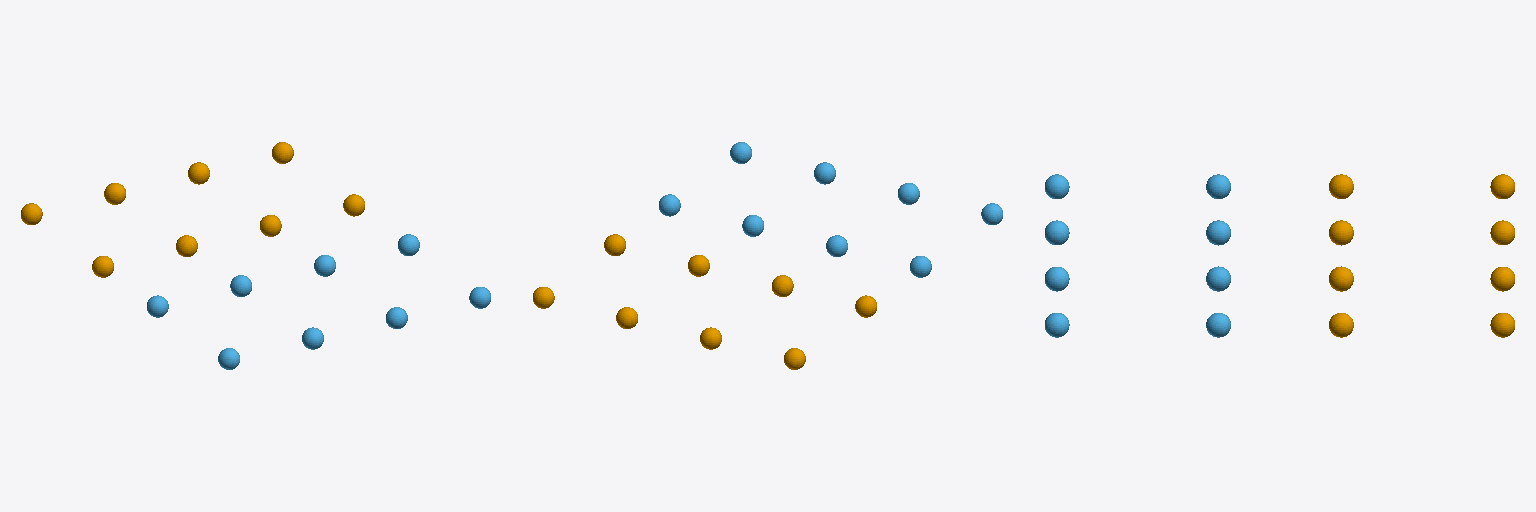
--- Render facts (derived) ---
The picture shows the robot from 3 angles, left to right: view 1: azimuth 30°, elevation 25°; view 2: azimuth 150°, elevation 25°; view 3: azimuth 270°, elevation 25°; orthographic projection.
Robot: atlas — 16 links, 15 joints (15 revolute); root link pelvis; default pose: every joint at zero.
Visible links, largest first — view 1: l_foot, r_foot; view 2: l_foot, r_foot; view 3: l_foot, r_foot.
Boxes of the visible links, <box> form: l_foot: <box>21,142,364,277</box>; r_foot: <box>147,234,490,369</box>; l_foot: <box>533,234,876,369</box>; r_foot: <box>659,142,1002,277</box>; l_foot: <box>1329,174,1514,337</box>; r_foot: <box>1045,174,1230,337</box>.
Size in the robot's own frame: 0.2804 by 0.375 by 0.02 metres.
0 mesh visuals loaded from 16 distinct referenced files (none loaded); not drawn: 16 (reference not matched to a file when rendering).

robot.urdf — atlas:
<?xml version="1.0"?>
<!-- =================================================================================== -->
<!-- |    This document was autogenerated by xacro from atlas_v5_minimal_contact.xacro | -->
<!-- |    EDITING THIS FILE BY HAND IS NOT RECOMMENDED                                 | -->
<!-- =================================================================================== -->
<robot xmlns:xacro="http://www.ros.org/wiki/xacro" name="atlas">
  <!--<link name="l_clav">-->
    <!--<inertial>-->
      <!--<mass value="4.466"/>-->
      <!--<origin rpy="0 0 0" xyz="0 0 -0.084"/>-->
      <!--<inertia ixx="0.011" ixy="0" ixz="0" iyy="0.009" iyz="0.004" izz="0.004"/>-->
    <!--</inertial>-->
    <!--<visual>-->
      <!--<geometry>-->
        <!--<mesh filename="package://Atlas/urdf/meshes/r_clav.obj"/>-->
      <!--</geometry>-->
    <!--</visual>-->
  <!--</link>-->
  <link name="l_foot">
    <inertial>
      <mass value="2.410"/>
      <origin rpy="0 0 0" xyz="0.027 0 -0.067"/>
      <inertia ixx="0.002" ixy="0" ixz="0" iyy="0.007" iyz="0" izz="0.008"/>
    </inertial>
    <visual>
      <geometry>
        <mesh filename="package://Atlas/urdf/meshes/l_foot.obj"/>
      </geometry>
    </visual>
    <collision group="heel">
      <origin rpy="0 0 0" xyz="-0.0876 0.066 -0.07645"/>
      <geometry>
        <sphere radius="0.0"/>
      </geometry>
    </collision>
    <visual group="heel">
      <origin rpy="0 0 0" xyz="-0.0876 0.066 -0.07645"/>
      <geometry>
        <sphere radius="0.01"/>
      </geometry>
    </visual>
    <collision group="heel">
      <origin rpy="0 0 0" xyz="-0.0876 -0.0626 -0.07645"/>
      <geometry>
        <sphere radius="0.0"/>
      </geometry>
    </collision>
    <visual group="heel">
      <origin rpy="0 0 0" xyz="-0.0876 -0.0626 -0.07645"/>
      <geometry>
        <sphere radius="0.01"/>
      </geometry>
    </visual>
    <collision group="toe">
      <origin rpy="0 0 0" xyz="0.1728 0.066 -0.07645"/>
      <geometry>
        <sphere radius="0.0"/>
      </geometry>
    </collision>
    <visual group="toe">
      <origin rpy="0 0 0" xyz="0.1728 0.066 -0.07645"/>
      <geometry>
        <sphere radius="0.01"/>
      </geometry>
    </visual>
    <collision group="toe">
      <origin rpy="0 0 0" xyz="0.1728 -0.0626 -0.07645"/>
      <geometry>
        <sphere radius="0.0"/>
      </geometry>
    </collision>
    <visual group="toe">
      <origin rpy="0 0 0" xyz="0.1728 -0.0626 -0.07645"/>
      <geometry>
        <sphere radius="0.01"/>
      </geometry>
    </visual>
    <collision group="midfoot_front">
      <origin rpy="0 0 0" xyz="0.086 0.066 -0.07645"/>
      <geometry>
        <sphere radius="0.0"/>
      </geometry>
    </collision>
    <visual group="midfoot_front">
      <origin rpy="0 0 0" xyz="0.086 0.066 -0.07645"/>
      <geometry>
        <sphere radius="0.01"/>
      </geometry>
    </visual>
    <collision group="midfoot_front">
      <origin rpy="0 0 0" xyz="0.086 -0.0626 -0.07645"/>
      <geometry>
        <sphere radius="0.0"/>
      </geometry>
    </collision>
    <visual group="midfoot_front">
      <origin rpy="0 0 0" xyz="0.086 -0.0626 -0.07645"/>
      <geometry>
        <sphere radius="0.01"/>
      </geometry>
    </visual>
    <collision group="midfoot_rear">
      <origin rpy="0 0 0" xyz="-0.0008 0.066 -0.07645"/>
      <geometry>
        <sphere radius="0.0"/>
      </geometry>
    </collision>
    <visual group="midfoot_rear">
      <origin rpy="0 0 0" xyz="-0.0008 0.066 -0.07645"/>
      <geometry>
        <sphere radius="0.01"/>
      </geometry>
    </visual>
    <collision group="midfoot_rear">
      <origin rpy="0 0 0" xyz="-0.0008 -0.0626 -0.07645"/>
      <geometry>
        <sphere radius="0.0"/>
      </geometry>
    </collision>
    <visual group="midfoot_rear">
      <origin rpy="0 0 0" xyz="-0.0008 -0.0626 -0.07645"/>
      <geometry>
        <sphere radius="0.01"/>
      </geometry>
    </visual>
  </link>
  <frame link="l_foot" name="l_foot_heel_l" xyz="-0.0876 0.066 -0.07645"/>
  <frame link="l_foot" name="l_foot_heel_r" xyz="-0.0876 -0.0626 -0.07645"/>
  <frame link="l_foot" name="l_foot_toe_l" xyz="0.1728 0.066 -0.07645"/>
  <frame link="l_foot" name="l_foot_toe_r" xyz="0.1728 -0.0626 -0.07645"/>
  <frame link="l_foot" name="l_foot_midfoot_front_l" xyz="0.086 0.066 -0.07645"/>
  <frame link="l_foot" name="l_foot_midfoot_front_r" xyz="0.086 -0.0626 -0.07645"/>
  <frame link="l_foot" name="l_foot_midfoot_rear_l" xyz="-0.0008 0.066 -0.07645"/>
  <frame link="l_foot" name="l_foot_midfoot_rear_r" xyz="-0.0008 -0.0626 -0.07645"/>

  <!--<link name="l_hand">-->
    <!--<inertial>-->
      <!--<mass value="0.5839"/>-->
      <!--<origin rpy="0 0 0" xyz="0.00016 -0.08159 0.00002"/>-->
      <!--<inertia ixx="0.000388" ixy="0" ixz="0" iyy="0.000477" iyz="0" izz="0.000379"/>-->
    <!--</inertial>-->
  <!--</link>-->
  <!--<frame link="l_hand" name="l_hand_mount" rpy="0 -1.5707963267948966 3.1415926535897" xyz="0 -0.195 0"/>-->
  <!--<link name="l_larm">-->
    <!--<inertial>-->
      <!--<mass value="3.248"/>-->
      <!--<origin rpy="0 0 0" xyz="0 0 0"/>-->
      <!--<inertia ixx="0.00265" ixy="0" ixz="0" iyy="0.00446" iyz="0" izz="0.00446"/>-->
    <!--</inertial>-->
    <!--<visual>-->
      <!--<geometry>-->
        <!--<mesh filename="package://Atlas/urdf/meshes/r_larm.obj"/>-->
      <!--</geometry>-->
    <!--</visual>-->
  <!--</link>-->
  <!--<link name="l_lfarm">-->
    <!--<inertial>-->
      <!--<mass value="0.648"/>-->
      <!--<origin rpy="0 0 0" xyz="0.00017 -0.02515 0.00163"/>-->
      <!--<inertia ixx="0.000764" ixy="0" ixz="0" iyy="0.000429" iyz="0" izz="0.000825"/>-->
    <!--</inertial>-->
    <!--<visual>-->
      <!--<geometry>-->
        <!--<mesh filename="package://Atlas/urdf/meshes/r_hand.obj"/>-->
      <!--</geometry>-->
    <!--</visual>-->
  <!--</link>-->
  <link name="l_lglut">
    <inertial>
      <mass value="0.898"/>
      <origin rpy="0 0 0" xyz="0.0133341 0.0170484 -0.0312052"/>
      <inertia ixx="0.000691326" ixy="-2.24344e-05" ixz="2.50508e-06" iyy="0.00126856" iyz="0.000137862" izz="0.00106487"/>
    </inertial>
    <visual>
      <geometry>
        <mesh filename="package://Atlas/urdf/meshes/l_lglut.obj"/>
      </geometry>
    </visual>
  </link>
  <link name="l_lleg">
    <inertial>
      <mass value="4.515"/>
      <origin rpy="0 0 0" xyz="0.001 0 -0.187"/>
      <inertia ixx="0.077" ixy="0" ixz="-0.003" iyy="0.076" iyz="0" izz="0.01"/>
    </inertial>
    <visual>
      <geometry>
        <mesh filename="package://Atlas/urdf/meshes/l_lleg.obj"/>
      </geometry>
    </visual>
  </link>
  <!--<link name="l_scap">-->
    <!--<inertial>-->
      <!--<mass value="3.899"/>-->
      <!--<origin rpy="0 0 0" xyz="0 0 0"/>-->
      <!--<inertia ixx="0.00319" ixy="0" ixz="0" iyy="0.00583" iyz="0" izz="0.00583"/>-->
    <!--</inertial>-->
    <!--<visual>-->
      <!--<geometry>-->
        <!--<mesh filename="package://Atlas/urdf/meshes/r_scap.obj"/>-->
      <!--</geometry>-->
    <!--</visual>-->
  <!--</link>-->
  <link name="l_talus">
    <inertial>
      <mass value="0.125"/>
      <origin rpy="0 0 0" xyz="0 0 0"/>
      <inertia ixx="1.01674e-05" ixy="0" ixz="0" iyy="8.42775e-06" iyz="0" izz="1.30101e-05"/>
    </inertial>
    <visual>
      <geometry>
        <mesh filename="package://Atlas/urdf/meshes/l_talus.obj"/>
      </geometry>
    </visual>
  </link>
  <!--<link name="l_uarm">-->
    <!--<inertial>-->
      <!--<mass value="4.386"/>-->
      <!--<origin rpy="0 0 0" xyz="0 0.065 0"/>-->
      <!--<inertia ixx="0.00656" ixy="0" ixz="0" iyy="0.00358" iyz="0" izz="0.00656"/>-->
    <!--</inertial>-->
    <!--<visual>-->
      <!--<geometry>-->
        <!--<mesh filename="package://Atlas/urdf/meshes/r_uarm.obj"/>-->
      <!--</geometry>-->
    <!--</visual>-->
  <!--</link>-->
  <!--<link name="l_ufarm">-->
    <!--<inertial>-->
      <!--<mass value="2.4798"/>-->
      <!--<origin rpy="0 0 0" xyz="0.00015 0.08296 0.00037"/>-->
      <!--<inertia ixx="0.012731" ixy="0" ixz="0" iyy="0.002857" iyz="0" izz="0.011948"/>-->
    <!--</inertial>-->
    <!--<visual>-->
      <!--<geometry>-->
        <!--<mesh filename="package://Atlas/urdf/meshes/r_farm.obj"/>-->
      <!--</geometry>-->
    <!--</visual>-->
  <!--</link>-->
  <link name="l_uglut">
    <inertial>
      <mass value="1.959"/>
      <origin rpy="0 0 0" xyz="0.00529262 -0.00344732 0.00313046"/>
      <inertia ixx="0.00074276" ixy="-3.79607e-08" ixz="-2.79549e-05" iyy="0.000688179" iyz="-3.2735e-08" izz="0.00041242"/>
    </inertial>
    <visual>
      <geometry>
        <mesh filename="package://Atlas/urdf/meshes/l_uglut.obj"/>
      </geometry>
    </visual>
  </link>
  <link name="l_uleg">
    <inertial>
      <mass value="8.204"/>
      <origin rpy="0 0 0" xyz="0 0 -0.21"/>
      <inertia ixx="0.09" ixy="0" ixz="0" iyy="0.09" iyz="0" izz="0.02"/>
    </inertial>
    <visual>
      <geometry>
        <mesh filename="package://Atlas/urdf/meshes/l_uleg.obj"/>
      </geometry>
    </visual>
    <!-- to cover the logo shield -->
    <!-- inside strut -->
    <!-- outside strut -->
  </link>
  <link name="ltorso">
    <inertial>
      <mass value="2.270"/>
      <origin rpy="0 0 0" xyz="-0.0112984 -3.15366e-06 0.0746835"/>
      <inertia ixx="0.0039092" ixy="-5.04491e-08" ixz="-0.000342157" iyy="0.00341694" iyz="4.87119e-07" izz="0.00174492"/>
    </inertial>
    <visual>
      <geometry>
        <mesh filename="package://Atlas/urdf/meshes/ltorso.obj"/>
      </geometry>
    </visual>
  </link>
  <link name="mtorso">
    <inertial>
      <mass value="0.799"/>
      <origin rpy="0 0 0" xyz="-0.00816266 -0.0131245 0.0305974"/>
      <inertia ixx="0.000454181" ixy="-6.10764e-05" ixz="3.94009e-05" iyy="0.000483282" iyz="5.27463e-05" izz="0.000444215"/>
    </inertial>
    <visual>
      <geometry>
        <mesh filename="package://Atlas/urdf/meshes/mtorso.obj"/>
      </geometry>
    </visual>
  </link>
  <link name="pelvis">
    <inertial>
      <mass value="9.509"/>
      <origin rpy="0 0 0" xyz="0.0111 0 0.0271"/>
      <inertia ixx="0.1244" ixy="0.0008" ixz="-0.0007" iyy="0.0958" iyz="-0.0005" izz="0.1167"/>
    </inertial>
    <visual>
      <geometry>
        <mesh filename="package://Atlas/urdf/meshes/pelvis.obj"/>
      </geometry>
    </visual>
  </link>
  <!--<link name="r_clav">-->
    <!--<inertial>-->
      <!--<mass value="4.466"/>-->
      <!--<origin rpy="0 0 0" xyz="0 0 -0.084"/>-->
      <!--<inertia ixx="0.011" ixy="0" ixz="0" iyy="0.009" iyz="0.004" izz="0.004"/>-->
    <!--</inertial>-->
    <!--<visual>-->
      <!--<geometry>-->
        <!--<mesh filename="package://Atlas/urdf/meshes/r_clav.obj"/>-->
      <!--</geometry>-->
    <!--</visual>-->
  <!--</link>-->
  <link name="r_foot">
    <inertial>
      <mass value="2.41"/>
      <origin rpy="0 0 0" xyz="0.027 0 -0.067"/>
      <inertia ixx="0.002" ixy="0" ixz="0" iyy="0.007" iyz="0" izz="0.008"/>
    </inertial>
    <visual>
      <geometry>
        <mesh filename="package://Atlas/urdf/meshes/r_foot.obj"/>
      </geometry>
    </visual>
    <collision group="heel">
      <origin rpy="0 0 0" xyz="-0.0876 0.0626 -0.07645"/>
      <geometry>
        <sphere radius="0.0"/>
      </geometry>
    </collision>
    <visual group="heel">
      <origin rpy="0 0 0" xyz="-0.0876 0.0626 -0.07645"/>
      <geometry>
        <sphere radius="0.01"/>
      </geometry>
    </visual>
    <collision group="heel">
      <origin rpy="0 0 0" xyz="-0.0876 -0.066 -0.07645"/>
      <geometry>
        <sphere radius="0.0"/>
      </geometry>
    </collision>
    <visual group="heel">
      <origin rpy="0 0 0" xyz="-0.0876 -0.066 -0.07645"/>
      <geometry>
        <sphere radius="0.01"/>
      </geometry>
    </visual>
    <collision group="toe">
      <origin rpy="0 0 0" xyz="0.1728 0.0626 -0.07645"/>
      <geometry>
        <sphere radius="0.0"/>
      </geometry>
    </collision>
    <visual group="toe">
      <origin rpy="0 0 0" xyz="0.1728 0.0626 -0.07645"/>
      <geometry>
        <sphere radius="0.01"/>
      </geometry>
    </visual>
    <collision group="toe">
      <origin rpy="0 0 0" xyz="0.1728 -0.066 -0.07645"/>
      <geometry>
        <sphere radius="0.0"/>
      </geometry>
    </collision>
    <visual group="toe">
      <origin rpy="0 0 0" xyz="0.1728 -0.066 -0.07645"/>
      <geometry>
        <sphere radius="0.01"/>
      </geometry>
    </visual>
    <collision group="midfoot_front">
      <origin rpy="0 0 0" xyz="0.086 0.0626 -0.07645"/>
      <geometry>
        <sphere radius="0.0"/>
      </geometry>
    </collision>
    <visual group="midfoot_front">
      <origin rpy="0 0 0" xyz="0.086 0.0626 -0.07645"/>
      <geometry>
        <sphere radius="0.01"/>
      </geometry>
    </visual>
    <collision group="midfoot_front">
      <origin rpy="0 0 0" xyz="0.086 -0.066 -0.07645"/>
      <geometry>
        <sphere radius="0.0"/>
      </geometry>
    </collision>
    <visual group="midfoot_front">
      <origin rpy="0 0 0" xyz="0.086 -0.066 -0.07645"/>
      <geometry>
        <sphere radius="0.01"/>
      </geometry>
    </visual>
    <collision group="midfoot_rear">
      <origin rpy="0 0 0" xyz="-0.0008 0.0626 -0.07645"/>
      <geometry>
        <sphere radius="0.0"/>
      </geometry>
    </collision>
    <visual group="midfoot_rear">
      <origin rpy="0 0 0" xyz="-0.0008 0.0626 -0.07645"/>
      <geometry>
        <sphere radius="0.01"/>
      </geometry>
    </visual>
    <collision group="midfoot_rear">
      <origin rpy="0 0 0" xyz="-0.0008 -0.066 -0.07645"/>
      <geometry>
        <sphere radius="0.0"/>
      </geometry>
    </collision>
    <visual group="midfoot_rear">
      <origin rpy="0 0 0" xyz="-0.0008 -0.066 -0.07645"/>
      <geometry>
        <sphere radius="0.01"/>
      </geometry>
    </visual>
  </link>
  <frame link="r_foot" name="r_foot_heel_l" xyz="-0.0876 0.0626 -0.07645"/>
  <frame link="r_foot" name="r_foot_heel_r" xyz="-0.0876 -0.066 -0.07645"/>
  <frame link="r_foot" name="r_foot_toe_l" xyz="0.1728 0.0626 -0.07645"/>
  <frame link="r_foot" name="r_foot_toe_r" xyz="0.1728 -0.066 -0.07645"/>
  <frame link="r_foot" name="r_foot_midfoot_front_l" xyz="0.086 0.0626 -0.07645"/>
  <frame link="r_foot" name="r_foot_midfoot_front_r" xyz="0.086 -0.066 -0.07645"/>
  <frame link="r_foot" name="r_foot_midfoot_rear_l" xyz="-0.0008 0.0626 -0.07645"/>
  <frame link="r_foot" name="r_foot_midfoot_rear_r" xyz="-0.0008 -0.066 -0.07645"/>
  <!--<link name="r_hand">-->
    <!--<inertial>-->
      <!--<mass value="0.5839"/>-->
      <!--<origin rpy="0 0 0" xyz="0.00016 -0.08159 0.00002"/>-->
      <!--<inertia ixx="0.000388" ixy="0" ixz="0" iyy="0.000477" iyz="0" izz="0.000379"/>-->
    <!--</inertial>-->
  <!--</link>-->
  <!--<frame link="r_hand" name="r_hand_mount" rpy="0 -1.5707963267948966 3.1415926535897" xyz="0 -0.195 0"/>-->
  <!--<link name="r_larm">-->
    <!--<inertial>-->
      <!--<mass value="3.248"/>-->
      <!--<origin rpy="0 0 0" xyz="0 0 0"/>-->
      <!--<inertia ixx="0.00265" ixy="0" ixz="0" iyy="0.00446" iyz="0" izz="0.00446"/>-->
    <!--</inertial>-->
    <!--<visual>-->
      <!--<geometry>-->
        <!--<mesh filename="package://Atlas/urdf/meshes/r_larm.obj"/>-->
      <!--</geometry>-->
    <!--</visual>-->
  <!--</link>-->
  <!--<link name="r_lfarm">-->
    <!--<inertial>-->
      <!--<mass value="0.648"/>-->
      <!--<origin rpy="0 0 0" xyz="0.00017 -0.02515 0.00163"/>-->
      <!--<inertia ixx="0.000764" ixy="0" ixz="0" iyy="0.000429" iyz="0" izz="0.000825"/>-->
    <!--</inertial>-->
    <!--<visual>-->
      <!--<geometry>-->
        <!--<mesh filename="package://Atlas/urdf/meshes/r_hand.obj"/>-->
      <!--</geometry>-->
    <!--</visual>-->
  <!--</link>-->
  <link name="r_lglut">
    <inertial>
      <mass value="0.898"/>
      <origin rpy="0 0 0" xyz="0.0133341 -0.0170484 -0.0312052"/>
      <inertia ixx="0.000691326" ixy="2.24344e-05" ixz="2.50508e-06" iyy="0.00126856" iyz="-0.000137862" izz="0.00106487"/>
    </inertial>
    <visual>
      <geometry>
        <mesh filename="package://Atlas/urdf/meshes/r_lglut.obj"/>
      </geometry>
    </visual>
  </link>
  <link name="r_lleg">
    <inertial>
      <mass value="4.515"/>
      <origin rpy="0 0 0" xyz="0.001 0 -0.187"/>
      <inertia ixx="0.077" ixy="-0" ixz="-0.003" iyy="0.076" iyz="-0" izz="0.01"/>
    </inertial>
    <visual>
      <geometry>
        <mesh filename="package://Atlas/urdf/meshes/r_lleg.obj"/>
      </geometry>
    </visual>
  </link>
  <!--<link name="r_scap">-->
    <!--<inertial>-->
      <!--<mass value="3.899"/>-->
      <!--<origin rpy="0 0 0" xyz="0 0 0"/>-->
      <!--<inertia ixx="0.00319" ixy="0" ixz="0" iyy="0.00583" iyz="0" izz="0.00583"/>-->
    <!--</inertial>-->
    <!--<visual>-->
      <!--<geometry>-->
        <!--<mesh filename="package://Atlas/urdf/meshes/r_scap.obj"/>-->
      <!--</geometry>-->
    <!--</visual>-->
  <!--</link>-->
  <link name="r_talus">
    <inertial>
      <mass value="0.125"/>
      <origin rpy="0 0 0" xyz="0 0 0"/>
      <inertia ixx="1.01674e-05" ixy="0" ixz="0" iyy="8.42775e-06" iyz="0" izz="1.30101e-05"/>
    </inertial>
    <visual>
      <geometry>
        <mesh filename="package://Atlas/urdf/meshes/r_talus.obj"/>
      </geometry>
    </visual>
  </link>
  <!--<link name="r_uarm">-->
    <!--<inertial>-->
      <!--<mass value="4.386"/>-->
      <!--<origin rpy="0 0 0" xyz="0 0.065 0"/>-->
      <!--<inertia ixx="0.00656" ixy="0" ixz="0" iyy="0.00358" iyz="0" izz="0.00656"/>-->
    <!--</inertial>-->
    <!--<visual>-->
      <!--<geometry>-->
        <!--<mesh filename="package://Atlas/urdf/meshes/r_uarm.obj"/>-->
      <!--</geometry>-->
    <!--</visual>-->
  <!--</link>-->
  <!--<link name="r_ufarm">-->
    <!--<inertial>-->
      <!--<mass value="2.4798"/>-->
      <!--<origin rpy="0 0 0" xyz="0.00015 0.08296 0.00037"/>-->
      <!--<inertia ixx="0.012731" ixy="0" ixz="0" iyy="0.002857" iyz="0" izz="0.011948"/>-->
    <!--</inertial>-->
    <!--<visual>-->
      <!--<geometry>-->
        <!--<mesh filename="package://Atlas/urdf/meshes/r_farm.obj"/>-->
      <!--</geometry>-->
    <!--</visual>-->
  <!--</link>-->
  <link name="r_uglut">
    <inertial>
      <mass value="1.959"/>
      <origin rpy="0 0 0" xyz="0.00529262 0.00344732 0.00313046"/>
      <inertia ixx="0.00074276" ixy="3.79607e-08" ixz="-2.79549e-05" iyy="0.000688179" iyz="3.2735e-08" izz="0.00041242"/>
    </inertial>
    <visual>
      <geometry>
        <mesh filename="package://Atlas/urdf/meshes/r_uglut.obj"/>
      </geometry>
    </visual>
  </link>
  <link name="r_uleg">
    <inertial>
      <mass value="8.204"/>
      <origin rpy="0 0 0" xyz="0 0 -0.21"/>
      <inertia ixx="0.09" ixy="0" ixz="0" iyy="0.09" iyz="0" izz="0.02"/>
    </inertial>
    <visual>
      <geometry>
        <mesh filename="package://Atlas/urdf/meshes/r_uleg.obj"/>
      </geometry>
    </visual>
    <!-- to cover the logo shield -->
    <!-- inside strut -->
    <!-- outside strut -->
  </link>
  <link name="utorso">
    <inertial>
      <mass value="84.409"/>
      <origin rpy="0 0 0" xyz="-0.0622 0.0023 0.3157"/>
      <inertia ixx="1.577" ixy="-0.032" ixz="0.102" iyy="1.602" iyz="0.047" izz="0.565"/>
    </inertial>
    <visual>
      <geometry>
        <mesh filename="package://Atlas/urdf/meshes/utorso.obj"/>
      </geometry>
    </visual>
  </link>
  <joint name="back_bkx" type="revolute">
    <origin rpy="0 0 0" xyz="0 0 0.05"/>
    <axis xyz="1 0 0"/>
    <parent link="mtorso"/>
    <child link="utorso"/>
    <dynamics damping="0.1" friction="0"/>
    <limit effort="300" lower="-0.523599" upper="0.523599" velocity="1"/>
    <safety_controller k_position="100" k_velocity="100" soft_lower_limit="-10.5236" soft_upper_limit="10.5236"/>
  </joint>
  <joint name="back_bky" type="revolute">
    <origin rpy="0 0 0" xyz="0 0 0.162"/>
    <axis xyz="0 1 0"/>
    <parent link="ltorso"/>
    <child link="mtorso"/>
    <dynamics damping="0.1" friction="0"/>
    <limit effort="445" lower="-0.219388" upper="0.538783" velocity="12"/>
    <safety_controller k_position="100" k_velocity="100" soft_lower_limit="-10.2194" soft_upper_limit="10.5388"/>
  </joint>
  <joint name="back_bkz" type="revolute">
    <origin rpy="0 0 0" xyz="-0.0125 0 0"/>
    <axis xyz="0 0 1"/>
    <parent link="pelvis"/>
    <child link="ltorso"/>
    <dynamics damping="0.1" friction="0"/>
    <limit effort="106" lower="-0.663225" upper="0.663225" velocity="1"/>
    <safety_controller k_position="100" k_velocity="100" soft_lower_limit="-10.6632" soft_upper_limit="10.6632"/>
  </joint>
  <!--<joint name="l_arm_elx" type="revolute">-->
    <!--<origin rpy="0 0 0" xyz="0 -0.119 0.0092"/>-->
    <!--<axis xyz="-1.0 -0.0 -0.0"/>-->
    <!--<parent link="l_uarm"/>-->
    <!--<child link="l_larm"/>-->
    <!--<dynamics damping="0.1" friction="0"/>-->
    <!--<limit effort="112" lower="0" upper="2.35619" velocity="12"/>-->
    <!--<safety_controller k_position="100" k_velocity="100" soft_lower_limit="-10" soft_upper_limit="12.3562"/>-->
  <!--</joint>-->
  <!--<joint name="l_arm_ely" type="revolute">-->
    <!--<origin rpy="0 0 0" xyz="0 -0.187 -0.016"/>-->
    <!--<axis xyz="-0.0 -1.0 -0.0"/>-->
    <!--<parent link="l_scap"/>-->
    <!--<child link="l_uarm"/>-->
    <!--<dynamics damping="0.1" friction="0"/>-->
    <!--<limit effort="63" lower="0" upper="3.14159" velocity="12"/>-->
    <!--<safety_controller k_position="100" k_velocity="100" soft_lower_limit="-10" soft_upper_limit="13.1416"/>-->
  <!--</joint>-->
  <!--<joint name="l_arm_shx" type="revolute">-->
    <!--<origin rpy="0 0 0" xyz="0 -0.11 -0.245"/>-->
    <!--<axis xyz="-1.0 -0.0 -0.0"/>-->
    <!--<parent link="l_clav"/>-->
    <!--<child link="l_scap"/>-->
    <!--<dynamics damping="0.1" friction="0"/>-->
    <!--<limit effort="99" lower="-1.5708" upper="1.5708" velocity="12"/>-->
    <!--<safety_controller k_position="100" k_velocity="100" soft_lower_limit="-11.5708" soft_upper_limit="11.5708"/>-->
  <!--</joint>-->
  <!--<joint name="l_arm_shz" type="revolute">-->
    <!--<origin rpy="0 0 3.14159265359" xyz="0.1406 0.2256 0.4776"/>-->
    <!--<axis xyz="0 0 1"/>-->
    <!--<parent link="utorso"/>-->
    <!--<child link="l_clav"/>-->
    <!--<dynamics damping="0.1" friction="0"/>-->
    <!--<limit effort="87" lower="-1.5708" upper="0.785398" velocity="12"/>-->
    <!--<safety_controller k_position="100" k_velocity="100" soft_lower_limit="-11.5708" soft_upper_limit="10.7854"/>-->
  <!--</joint>-->
  <!--<joint name="l_arm_mwx" type="revolute">-->
    <!--<origin rpy="0 0 0" xyz="0 0 0"/>-->
    <!--<axis xyz="1 0 0"/>-->
    <!--<parent link="l_ufarm"/>-->
    <!--<child link="l_lfarm"/>-->
    <!--<dynamics damping="0.1" friction="0"/>-->
    <!--<limit effort="25" lower="-1.7628" upper="1.7628" velocity="10"/>-->
    <!--<safety_controller k_position="100" k_velocity="100" soft_lower_limit="-11.7628" soft_upper_limit="11.7628"/>-->
  <!--</joint>-->
  <!--<joint name="l_arm_uwy" type="revolute">-->
    <!--<origin rpy="0 3.14159265359 0" xyz="0 -0.29955 -0.00921"/>-->
    <!--<axis xyz="-0.0 -1.0 -0.0"/>-->
    <!--<parent link="l_larm"/>-->
    <!--<child link="l_ufarm"/>-->
    <!--<dynamics damping="0.1" friction="0"/>-->
    <!--<limit effort="25" lower="-3.011" upper="3.011" velocity="10"/>-->
    <!--<safety_controller k_position="100" k_velocity="100" soft_lower_limit="-13.011" soft_upper_limit="13.011"/>-->
  <!--</joint>-->
  <!--<joint name="l_arm_lwy" type="revolute">-->
    <!--<origin rpy="0 3.14159265359 0" xyz="0 0 0"/>-->
    <!--<axis xyz="-0.0 -1.0 -0.0"/>-->
    <!--<parent link="l_lfarm"/>-->
    <!--<child link="l_hand"/>-->
    <!--<dynamics damping="0.1" friction="0"/>-->
    <!--<limit effort="25" lower="-2.9671" upper="2.9671" velocity="10"/>-->
    <!--<safety_controller k_position="100" k_velocity="100" soft_lower_limit="-12.9671" soft_upper_limit="12.9671"/>-->
  <!--</joint>-->
  <joint name="l_leg_akx" type="revolute">
    <origin rpy="0 0 0" xyz="0 0 0"/>
    <axis xyz="1 0 0"/>
    <parent link="l_talus"/>
    <child link="l_foot"/>
    <dynamics damping="0.1" friction="0"/>
    <limit effort="360" lower="-0.8" upper="0.8" velocity="12"/>
    <safety_controller k_position="100" k_velocity="100" soft_lower_limit="-10.8" soft_upper_limit="10.8"/>
  </joint>
  <joint name="l_leg_aky" type="revolute">
    <origin rpy="0 0 0" xyz="0 0 -0.422"/>
    <axis xyz="0 1 0"/>
    <parent link="l_lleg"/>
    <child link="l_talus"/>
    <dynamics damping="0.1" friction="0"/>
    <limit effort="740" lower="-1" upper="0.7" velocity="12"/>
    <safety_controller k_position="100" k_velocity="100" soft_lower_limit="-11" soft_upper_limit="10.7"/>
  </joint>
  <joint name="l_leg_hpx" type="revolute">
    <origin rpy="0 0 0" xyz="0 0 0"/>
    <axis xyz="1 0 0"/>
    <parent link="l_uglut"/>
    <child link="l_lglut"/>
    <dynamics damping="0.1" friction="0"/>
    <limit effort="530" lower="-0.523599" upper="0.523599" velocity="12"/>
    <safety_controller k_position="100" k_velocity="100" soft_lower_limit="-10.5236" soft_upper_limit="10.5236"/>
  </joint>
  <joint name="l_leg_hpy" type="revolute">
    <origin rpy="0 0 0" xyz="0.05 0.0225 -0.066"/>
    <axis xyz="0 1 0"/>
    <parent link="l_lglut"/>
    <child link="l_uleg"/>
    <dynamics damping="0.1" friction="0"/>
    <limit effort="840" lower="-1.61234" upper="0.65764" velocity="12"/>
    <safety_controller k_position="100" k_velocity="100" soft_lower_limit="-11.6123" soft_upper_limit="10.6576"/>
  </joint>
  <joint name="l_leg_hpz" type="revolute">
    <origin rpy="0 0 0" xyz="0 0.089 0"/>
    <axis xyz="0 0 1"/>
    <parent link="pelvis"/>
    <child link="l_uglut"/>
    <dynamics damping="0.1" friction="0"/>
    <limit effort="275" lower="-0.174358" upper="0.786794" velocity="12"/>
    <safety_controller k_position="100" k_velocity="100" soft_lower_limit="-10.1744" soft_upper_limit="10.7868"/>
  </joint>
  <joint name="l_leg_kny" type="revolute">
    <origin rpy="0 0 0" xyz="-0.05 0 -0.374"/>
    <axis xyz="0 1 0"/>
    <parent link="l_uleg"/>
    <child link="l_lleg"/>
    <dynamics damping="0.1" friction="0"/>
    <limit effort="890" lower="0" upper="2.35637" velocity="12"/>
    <safety_controller k_position="100" k_velocity="100" soft_lower_limit="-10" soft_upper_limit="12.3564"/>
  </joint>
  <!--<joint name="neck_ay" type="revolute">-->
    <!--<origin rpy="0 0 0" xyz="0.2546 0 0.6215"/>-->
    <!--<axis xyz="0 1 0"/>-->
    <!--<parent link="utorso"/>-->
    <!--<child link="head"/>-->
    <!--<dynamics damping="0.1" friction="0"/>-->
    <!--<limit effort="25" lower="-0.602139" upper="1.14319" velocity="6.28"/>-->
    <!--<safety_controller k_position="100" k_velocity="100" soft_lower_limit="-10.6021" soft_upper_limit="11.1432"/>-->
  <!--</joint>-->
  <!--<joint name="r_arm_elx" type="revolute">-->
    <!--<origin rpy="0 0 0" xyz="0 -0.119 0.0092"/>-->
    <!--<axis xyz="1 0 0"/>-->
    <!--<parent link="r_uarm"/>-->
    <!--<child link="r_larm"/>-->
    <!--<dynamics damping="0.1" friction="0"/>-->
    <!--<limit effort="112" lower="-2.35619" upper="0" velocity="12"/>-->
    <!--<safety_controller k_position="100" k_velocity="100" soft_lower_limit="-12.3562" soft_upper_limit="10"/>-->
  <!--</joint>-->
  <!--<joint name="r_arm_ely" type="revolute">-->
    <!--<origin rpy="0 0 0" xyz="0 -0.187 -0.016"/>-->
    <!--<axis xyz="0 1 0"/>-->
    <!--<parent link="r_scap"/>-->
    <!--<child link="r_uarm"/>-->
    <!--<dynamics damping="0.1" friction="0"/>-->
    <!--<limit effort="63" lower="0" upper="3.14159" velocity="12"/>-->
    <!--<safety_controller k_position="100" k_velocity="100" soft_lower_limit="-10" soft_upper_limit="13.1416"/>-->
  <!--</joint>-->
  <!--<joint name="r_arm_shx" type="revolute">-->
    <!--<origin rpy="0 0 0" xyz="0 -0.11 -0.245"/>-->
    <!--<axis xyz="1 0 0"/>-->
    <!--<parent link="r_clav"/>-->
    <!--<child link="r_scap"/>-->
    <!--<dynamics damping="0.1" friction="0"/>-->
    <!--<limit effort="99" lower="-1.5708" upper="1.5708" velocity="12"/>-->
    <!--<safety_controller k_position="100" k_velocity="100" soft_lower_limit="-11.5708" soft_upper_limit="11.5708"/>-->
  <!--</joint>-->
  <!--<joint name="r_arm_shz" type="revolute">-->
    <!--<origin rpy="0 0 0" xyz="0.1406 -0.2256 0.4776"/>-->
    <!--<axis xyz="0 0 1"/>-->
    <!--<parent link="utorso"/>-->
    <!--<child link="r_clav"/>-->
    <!--<dynamics damping="0.1" friction="0"/>-->
    <!--<limit effort="87" lower="-0.785398" upper="1.5708" velocity="12"/>-->
    <!--<safety_controller k_position="100" k_velocity="100" soft_lower_limit="-10.7854" soft_upper_limit="11.5708"/>-->
  <!--</joint>-->
  <!--<joint name="r_arm_mwx" type="revolute">-->
    <!--<origin rpy="0 0 0" xyz="0 0 0"/>-->
    <!--<axis xyz="1 0 0"/>-->
    <!--<parent link="r_ufarm"/>-->
    <!--<child link="r_lfarm"/>-->
    <!--<dynamics damping="0.1" friction="0"/>-->
    <!--<limit effort="25" lower="-1.7628" upper="1.7628" velocity="10"/>-->
    <!--<safety_controller k_position="100" k_velocity="100" soft_lower_limit="-11.7628" soft_upper_limit="11.7628"/>-->
  <!--</joint>-->
  <!--<joint name="r_arm_uwy" type="revolute">-->
    <!--<origin rpy="0 0 0" xyz="0 -0.29955 -0.00921"/>-->
    <!--<axis xyz="0 1 0"/>-->
    <!--<parent link="r_larm"/>-->
    <!--<child link="r_ufarm"/>-->
    <!--<dynamics damping="0.1" friction="0"/>-->
    <!--<limit effort="25" lower="-3.011" upper="3.011" velocity="10"/>-->
    <!--<safety_controller k_position="100" k_velocity="100" soft_lower_limit="-13.011" soft_upper_limit="13.011"/>-->
  <!--</joint>-->
  <!--<joint name="r_arm_lwy" type="revolute">-->
    <!--<origin rpy="0 0 0" xyz="0 0 0"/>-->
    <!--<axis xyz="0 1 0"/>-->
    <!--<parent link="r_lfarm"/>-->
    <!--<child link="r_hand"/>-->
    <!--<dynamics damping="0.1" friction="0"/>-->
    <!--<limit effort="25" lower="-2.9671" upper="2.9671" velocity="10"/>-->
    <!--<safety_controller k_position="100" k_velocity="100" soft_lower_limit="-12.9671" soft_upper_limit="12.9671"/>-->
  <!--</joint>-->
  <joint name="r_leg_akx" type="revolute">
    <origin rpy="0 0 0" xyz="0 0 0"/>
    <axis xyz="1 0 0"/>
    <parent link="r_talus"/>
    <child link="r_foot"/>
    <dynamics damping="0.1" friction="0"/>
    <limit effort="360" lower="-0.8" upper="0.8" velocity="12"/>
    <safety_controller k_position="100" k_velocity="100" soft_lower_limit="-10.8" soft_upper_limit="10.8"/>
  </joint>
  <joint name="r_leg_aky" type="revolute">
    <origin rpy="0 0 0" xyz="0 0 -0.422"/>
    <axis xyz="0 1 0"/>
    <parent link="r_lleg"/>
    <child link="r_talus"/>
    <dynamics damping="0.1" friction="0"/>
    <limit effort="740" lower="-1" upper="0.7" velocity="12"/>
    <safety_controller k_position="100" k_velocity="100" soft_lower_limit="-11" soft_upper_limit="10.7"/>
  </joint>
  <joint name="r_leg_hpx" type="revolute">
    <origin rpy="0 0 0" xyz="0 0 0"/>
    <axis xyz="1 0 0"/>
    <parent link="r_uglut"/>
    <child link="r_lglut"/>
    <dynamics damping="0.1" friction="0"/>
    <limit effort="530" lower="-0.523599" upper="0.523599" velocity="12"/>
    <safety_controller k_position="100" k_velocity="100" soft_lower_limit="-10.5236" soft_upper_limit="10.5236"/>
  </joint>
  <joint name="r_leg_hpy" type="revolute">
    <origin rpy="0 0 0" xyz="0.05 -0.0225 -0.066"/>
    <axis xyz="0 1 0"/>
    <parent link="r_lglut"/>
    <child link="r_uleg"/>
    <dynamics damping="0.1" friction="0"/>
    <limit effort="840" lower="-1.61234" upper="0.65764" velocity="12"/>
    <safety_controller k_position="100" k_velocity="100" soft_lower_limit="-11.6123" soft_upper_limit="10.6576"/>
  </joint>
  <joint name="r_leg_hpz" type="revolute">
    <origin rpy="0 0 0" xyz="0 -0.089 0"/>
    <axis xyz="0 0 1"/>
    <parent link="pelvis"/>
    <child link="r_uglut"/>
    <dynamics damping="0.1" friction="0"/>
    <limit effort="275" lower="-0.786794" upper="0.174358" velocity="12"/>
    <safety_controller k_position="100" k_velocity="100" soft_lower_limit="-10.7868" soft_upper_limit="10.1744"/>
  </joint>
  <joint name="r_leg_kny" type="revolute">
    <origin rpy="0 0 0" xyz="-0.05 0 -0.374"/>
    <axis xyz="0 1 0"/>
    <parent link="r_uleg"/>
    <child link="r_lleg"/>
    <dynamics damping="0.1" friction="0"/>
    <limit effort="890" lower="0" upper="2.35637" velocity="12"/>
    <safety_controller k_position="100" k_velocity="100" soft_lower_limit="-10" soft_upper_limit="12.3564"/>
  </joint>
  <!--<link name="r_situational_awareness_camera_link">-->
    <!--<inertial>-->
      <!--<mass value="0.1"/>-->
      <!--<origin xyz="0 0 0"/>-->
      <!--<inertia ixx="0.00001" ixy="0" ixz="0" iyy="0.00001" iyz="0" izz="0.00001"/>-->
    <!--</inertial>-->
    <!--<visual>-->
      <!--<origin rpy="0 0 0" xyz="0 0 0"/>-->
      <!--<geometry>-->
        <!--<box size="0.01 0.01 0.01"/>-->
      <!--</geometry>-->
    <!--</visual>-->
  <!--</link>-->
  <!--<joint name="r_situational_awareness_camera_joint" type="fixed">-->
    <!--<parent link="utorso"/>-->
    <!--<child link="r_situational_awareness_camera_link"/>-->
    <!--[> SA camera mounted above the multisense head <]-->
    <!--<origin rpy="0 0 -1.309" xyz="0.155 -0.121 0.785"/>-->
  <!--</joint>-->
  <!--<joint name="r_situational_awareness_camera_optical_frame_joint" type="fixed">-->
    <!--<origin rpy="-1.5708 0.0 -1.5708" xyz="0 0 0"/>-->
    <!--<parent link="r_situational_awareness_camera_link"/>-->
    <!--<child link="r_situational_awareness_camera_optical_frame"/>-->
  <!--</joint>-->
  <!--<link name="r_situational_awareness_camera_optical_frame"/>-->
  <!--<link name="l_situational_awareness_camera_link">-->
    <!--<inertial>-->
      <!--<mass value="0.1"/>-->
      <!--<origin xyz="0 0 0"/>-->
      <!--<inertia ixx="0.00001" ixy="0" ixz="0" iyy="0.00001" iyz="0" izz="0.00001"/>-->
    <!--</inertial>-->
    <!--<visual>-->
      <!--<origin rpy="0 0 0" xyz="0 0 0"/>-->
      <!--<geometry>-->
        <!--<box size="0.01 0.01 0.01"/>-->
      <!--</geometry>-->
    <!--</visual>-->
  <!--</link>-->
  <!--<joint name="l_situational_awareness_camera_joint" type="fixed">-->
    <!--<parent link="utorso"/>-->
    <!--<child link="l_situational_awareness_camera_link"/>-->
    <!--[> SA camera mounted above the multisense head <]-->
    <!--<origin rpy="0 0 1.309" xyz="0.155 0.121 0.785"/>-->
  <!--</joint>-->
  <!--<joint name="l_situational_awareness_camera_optical_frame_joint" type="fixed">-->
    <!--<origin rpy="-1.5708 0.0 -1.5708" xyz="0 0 0"/>-->
    <!--<parent link="l_situational_awareness_camera_link"/>-->
    <!--<child link="l_situational_awareness_camera_optical_frame"/>-->
  <!--</joint>-->
  <!--<link name="l_situational_awareness_camera_optical_frame"/>-->
  <!--<frame link="l_foot" name="l_foot_sole" rpy="0 0 0" xyz="0.0426  0.0017 -0.07645"/>-->
  <!--<frame link="r_foot" name="r_foot_sole" rpy="0 0 0" xyz="0.0426 -0.0017 -0.07645"/>-->
  <!--<frame link="l_foot" name="l_foot_toe" rpy="0 0 0" xyz="0.1728 0.0017 -0.07645"/>-->
  <!--<frame link="r_foot" name="r_foot_toe" rpy="0 0 0" xyz="0.1728 -0.0017 -0.07645"/>-->
  <!--<link name="head">-->
    <!--<inertial>-->
      <!--<origin rpy="0 0 0" xyz="-0.075493 3.3383E-05 0.02774"/>-->
      <!--<mass value="1.4199"/>-->
      <!--<inertia ixx="0.0039688" ixy="-1.5797E-06" ixz="-0.00089293" iyy="0.0041178" iyz="-6.8415E-07" izz="0.0035243"/>-->
    <!--</inertial>-->
    <!--<visual>-->
      <!--<origin rpy="0 0 0" xyz="0 0 0"/>-->
      <!--<geometry>-->
        <!--<mesh filename="package://Atlas/urdf/meshes/head.obj"/>-->
      <!--</geometry>-->
      <!--<material name="">-->
        <!--<color rgba="0.9098 0.44314 0.031373 1"/>-->
      <!--</material>-->
    <!--</visual>-->
  <!--</link>-->
  <!--<link name="pre_spindle"/>-->
  <!--<joint name="pre_spindle_joint" type="fixed">-->
    <!--<axis xyz="0 1 0"/>-->
    <!--<origin rpy="0 0 0" xyz="-0.0446 0 0.0880"/>-->
    <!--<parent link="head"/>-->
    <!--<child link="pre_spindle"/>-->
  <!--</joint>-->
  <!--<link name="pre_spindle_cal_x"/>-->
  <!--<link name="pre_spindle_cal_y"/>-->
  <!--<link name="pre_spindle_cal_z"/>-->
  <!--<link name="pre_spindle_cal_roll"/>-->
  <!--<link name="pre_spindle_cal_pitch"/>-->
  <!--<link name="pre_spindle_cal_yaw"/>-->
  <!--<joint name="pre_spindle_cal_x_joint" type="fixed">-->
    <!--<parent link="pre_spindle"/>-->
    <!--<child link="pre_spindle_cal_x"/>-->
    <!--<axis xyz="1 0 0"/>-->
    <!--<limit effort="0.0" lower="-0.5" upper="0.5" velocity="0.0"/>-->
  <!--</joint>-->
  <!--<joint name="pre_spindle_cal_y_joint" type="fixed">-->
    <!--<parent link="pre_spindle_cal_x"/>-->
    <!--<child link="pre_spindle_cal_y"/>-->
    <!--<axis xyz="0 1 0"/>-->
    <!--<limit effort="0.0" lower="-0.5" upper="0.5" velocity="0.0"/>-->
  <!--</joint>-->
  <!--<joint name="pre_spindle_cal_z_joint" type="fixed">-->
    <!--<parent link="pre_spindle_cal_y"/>-->
    <!--<child link="pre_spindle_cal_z"/>-->
    <!--<axis xyz="0 0 1"/>-->
    <!--<limit effort="0.0" lower="-0.5" upper="0.5" velocity="0.0"/>-->
  <!--</joint>-->
  <!--<joint name="pre_spindle_cal_roll_joint" type="fixed">-->
    <!--<parent link="pre_spindle_cal_z"/>-->
    <!--<child link="pre_spindle_cal_roll"/>-->
    <!--<axis xyz="1 0 0"/>-->
  <!--</joint>-->
  <!--<joint name="pre_spindle_cal_pitch_joint" type="fixed">-->
    <!--<parent link="pre_spindle_cal_roll"/>-->
    <!--<child link="pre_spindle_cal_pitch"/>-->
    <!--<axis xyz="0 1 0"/>-->
  <!--</joint>-->
  <!--<joint name="pre_spindle_cal_yaw_joint" type="fixed">-->
    <!--<parent link="pre_spindle_cal_pitch"/>-->
    <!--<child link="pre_spindle_cal_yaw"/>-->
    <!--<axis xyz="0 0 1"/>-->
  <!--</joint>-->
  <!--<joint name="hokuyo_joint" type="fixed">-->
    <!--<origin rpy="0 0 0" xyz="0 0 0"/>-->
    <!--<parent link="pre_spindle_cal_yaw"/>-->
    <!--<child link="post_spindle"/>-->
    <!--<axis xyz="1 0 0"/>-->
  <!--</joint>-->
  <!--<link name="post_spindle"/>-->
  <!--<link name="post_spindle_cal_x"/>-->
  <!--<link name="post_spindle_cal_y"/>-->
  <!--<link name="post_spindle_cal_z"/>-->
  <!--<link name="post_spindle_cal_roll"/>-->
  <!--<link name="post_spindle_cal_pitch"/>-->
  <!--<joint name="post_spindle_cal_x_joint" type="fixed">-->
    <!--<parent link="post_spindle"/>-->
    <!--<child link="post_spindle_cal_x"/>-->
    <!--<axis xyz="1 0 0"/>-->
    <!--<limit effort="0.0" lower="-0.5" upper="0.5" velocity="0.0"/>-->
  <!--</joint>-->
  <!--<joint name="post_spindle_cal_y_joint" type="fixed">-->
    <!--<parent link="post_spindle_cal_x"/>-->
    <!--<child link="post_spindle_cal_y"/>-->
    <!--<axis xyz="0 1 0"/>-->
    <!--<limit effort="0.0" lower="-0.5" upper="0.5" velocity="0.0"/>-->
  <!--</joint>-->
  <!--<joint name="post_spindle_cal_z_joint" type="fixed">-->
    <!--<parent link="post_spindle_cal_y"/>-->
    <!--<child link="post_spindle_cal_z"/>-->
    <!--<axis xyz="0 0 1"/>-->
    <!--<limit effort="0.0" lower="-0.5" upper="0.5" velocity="0.0"/>-->
  <!--</joint>-->
  <!--<joint name="post_spindle_cal_roll_joint" type="fixed">-->
    <!--<parent link="post_spindle_cal_z"/>-->
    <!--<child link="post_spindle_cal_roll"/>-->
    <!--<axis xyz="1 0 0"/>-->
  <!--</joint>-->
  <!--<joint name="post_spindle_cal_pitch_joint" type="fixed">-->
    <!--<parent link="post_spindle_cal_roll"/>-->
    <!--<child link="post_spindle_cal_pitch"/>-->
    <!--<axis xyz="0 1 0"/>-->
  <!--</joint>-->
  <!--<joint name="post_spindle_cal_yaw_joint" type="fixed">-->
    <!--<parent link="post_spindle_cal_pitch"/>-->
    <!--<child link="hokuyo_link"/>-->
    <!--<axis xyz="0 0 1"/>-->
  <!--</joint>-->
  <!--<link name="hokuyo_link">-->
    <!--<inertial>-->
      <!--<origin rpy="0 0 0" xyz="0.012428 0.0004084 -0.0041835"/>-->
      <!--<mass value="0.057664"/>-->
      <!--<inertia ixx="3.7174E-05" ixy="4.9927E-08" ixz="1.1015E-05" iyy="4.2412E-05" iyz="-9.8165E-09" izz="4.167E-05"/>-->
    <!--</inertial>-->
    <!--<visual>-->
      <!--<origin rpy="-0.314 0 0" xyz="0.045 -0.0261018277 -0.08342369"/>-->
      <!--<geometry>-->
        <!--<mesh filename="package://Atlas/urdf/meshes/head_camera.obj"/>-->
      <!--</geometry>-->
      <!--<material name="">-->
        <!--<color rgba="0.72941 0.35686 0.023529 1"/>-->
      <!--</material>-->
    <!--</visual>-->
  <!--</link>-->
  <!--<joint name="head_hokuyo_fixed_joint" type="fixed">-->
    <!--<axis xyz="0 1 0"/>-->
    <!--<origin rpy="0 0 0" xyz="0.03 0 0.015"/>-->
    <!--<parent link="hokuyo_link"/>-->
    <!--<child link="head_hokuyo_frame"/>-->
  <!--</joint>-->
  <!--<link name="head_hokuyo_frame">-->
    <!--<inertial>-->
      <!--<mass value="0.01"/>-->
      <!--<origin rpy="0 0 0" xyz="0 0 0"/>-->
      <!--<inertia ixx="0.00001" ixy="0" ixz="0" iyy="0.00001" iyz="0" izz="0.00001"/>-->
    <!--</inertial>-->
  <!--</link>-->
  <!--<gazebo reference="head_hokuyo_frame">-->
    <!--<sensor name="head_hokuyo_sensor" type="ray">-->
      <!--<visualize>false</visualize>-->
      <!--<update_rate>40</update_rate>-->
      <!--<ray>-->
        <!--<scan>-->
          <!--<horizontal>-->
            <!--<samples>720</samples>-->
            <!--<resolution>1</resolution>-->
            <!--<min_angle>-1.570796</min_angle>-->
            <!--<max_angle>1.570796</max_angle>-->
          <!--</horizontal>-->
        <!--</scan>-->
        <!--<range>-->
          <!--<min>0.10</min>-->
          <!--<max>30.0</max>-->
          <!--<resolution>0.01</resolution>-->
        <!--</range>-->
      <!--</ray>-->
      <!--<plugin filename="libgazebo_ros_laser.so" name="gazebo_ros_head_hokuyo_controller">-->
        <!--<gaussianNoise>0.005</gaussianNoise>-->
        <!--<alwaysOn>true</alwaysOn>-->
        <!--<updateRate>40</updateRate>-->
        <!--<topicName>/scan</topicName>-->
        <!--<frameName>head_hokuyo_frame</frameName>-->
      <!--</plugin>-->
    <!--</sensor>-->
  <!--</gazebo>-->
  <!--<joint name="left_camera_frame_joint" type="fixed">-->
    <!--[> optical frame collocated with tilting DOF <]-->
    <!--<origin xyz="0.0 0.035 -0.002"/>-->
    <!--<parent link="head"/>-->
    <!--<child link="left_camera_frame"/>-->
  <!--</joint>-->
  <!--<link name="left_camera_frame">-->
    <!--<inertial>-->
      <!--<mass value="0.1"/>-->
      <!--<origin xyz="0 0 0"/>-->
      <!--<inertia ixx="0.001" ixy="0.0" ixz="0.0" iyy="0.001" iyz="0.0" izz="0.001"/>-->
    <!--</inertial>-->
  <!--</link>-->
  <!--<joint name="left_camera_optical_frame_joint" type="fixed">-->
    <!--<origin rpy="-1.5708 0.0 -1.5708" xyz="0 0 0"/>-->
    <!--<parent link="left_camera_frame"/>-->
    <!--<child link="left_camera_optical_frame"/>-->
  <!--</joint>-->
  <!--<link name="left_camera_optical_frame"/>-->
  <!--<gazebo reference="left_camera_frame">-->
    <!--<sensor name="left_camera_sensor" type="camera">-->
      <!--[> update rate based on spec sheet for 2mp 15fps <]-->
      <!--<update_rate>15.0</update_rate>-->
      <!--<camera>-->
        <!--[> hfov based on spec sheet, 80 degrees X 45 degrees <]-->
        <!--[> for resolution of 2048 x 1088, we have non-unity aspect ratio <]-->
        <!--[> but gazebo will violate the vertical fov for now to keep aspect ratio of 1 <]-->
        <!--<horizontal_fov>1.3962634</horizontal_fov>-->
        <!--<image>-->
          <!--<width>2048</width>-->
          <!--<height>1088</height>-->
          <!--<format>R8G8B8</format>-->
        <!--</image>-->
        <!--<clip>-->
          <!--<near>0.02</near>-->
          <!--<far>100</far>-->
        <!--</clip>-->
      <!--</camera>-->
      <!--<plugin filename="libgazebo_ros_camera.so" name="left_camera_controller">-->
        <!--<alwaysOn>true</alwaysOn>-->
        <!--[> update rate based on spec sheet for 2mp 15fps <]-->
        <!--<updateRate>15.0</updateRate>-->
        <!--<cameraName>multisense/left</cameraName>-->
        <!--<imageTopicName>image_raw</imageTopicName>-->
        <!--<cameraInfoTopicName>camera_info</cameraInfoTopicName>-->
        <!--<frameName>left_camera_optical_frame</frameName>-->
        <!--<hackBaseline>0.0</hackBaseline>-->
        <!--<distortionK1>0.0</distortionK1>-->
        <!--<distortionK2>0.0</distortionK2>-->
        <!--<distortionK3>0.0</distortionK3>-->
        <!--<distortionT1>0.0</distortionT1>-->
        <!--<distortionT2>0.0</distortionT2>-->
      <!--</plugin>-->
    <!--</sensor>-->
  <!--</gazebo>-->
  <!--<joint name="right_camera_frame_joint" type="fixed">-->
    <!--<origin xyz="0.0 -0.035 -0.002"/>-->
    <!--<parent link="head"/>-->
    <!--<child link="right_camera_frame"/>-->
  <!--</joint>-->
  <!--<link name="right_camera_frame">-->
    <!--<inertial>-->
      <!--<mass value="0.1"/>-->
      <!--<origin xyz="0 0 0"/>-->
      <!--<inertia ixx="0.001" ixy="0.0" ixz="0.0" iyy="0.001" iyz="0.0" izz="0.001"/>-->
    <!--</inertial>-->
  <!--</link>-->
  <!--<joint name="right_camera_optical_frame_joint" type="fixed">-->
    <!--<origin rpy="-1.5708 0.0 -1.5708" xyz="0 0 0"/>-->
    <!--<parent link="right_camera_frame"/>-->
    <!--<child link="right_camera_optical_frame"/>-->
  <!--</joint>-->
  <!--<link name="right_camera_optical_frame"/>-->
  <!--<gazebo reference="right_camera_frame">-->
    <!--<sensor name="right_camera_sensor" type="camera">-->
      <!--[> update rate based on spec sheet for 2mp 15fps <]-->
      <!--<update_rate>15.0</update_rate>-->
      <!--<camera>-->
        <!--[> hfov based on spec sheet, 80 degrees X 45 degrees <]-->
        <!--[> for resolution of 2048 x 1088, we have non-unity aspect ratio <]-->
        <!--[> but gazebo will violate the vertical fov for now to keep aspect ratio of 1 <]-->
        <!--<horizontal_fov>1.3962634</horizontal_fov>-->
        <!--<image>-->
          <!--<width>2048</width>-->
          <!--<height>1088</height>-->
          <!--<format>R8G8B8</format>-->
        <!--</image>-->
        <!--<clip>-->
          <!--<near>0.02</near>-->
          <!--<far>100</far>-->
        <!--</clip>-->
      <!--</camera>-->
      <!--<plugin filename="libgazebo_ros_camera.so" name="right_camera_controller">-->
        <!--<alwaysOn>true</alwaysOn>-->
        <!--[> update rate based on spec sheet for 2mp 15fps <]-->
        <!--<updateRate>15.0</updateRate>-->
        <!--<cameraName>multisense/right</cameraName>-->
        <!--<imageTopicName>image_raw</imageTopicName>-->
        <!--<cameraInfoTopicName>camera_info</cameraInfoTopicName>-->
        <!--<frameName>left_camera_optical_frame</frameName>-->
        <!--<hackBaseline>0.07</hackBaseline>-->
        <!--<distortionK1>0.0</distortionK1>-->
        <!--<distortionK2>0.0</distortionK2>-->
        <!--<distortionK3>0.0</distortionK3>-->
        <!--<distortionT1>0.0</distortionT1>-->
        <!--<distortionT2>0.0</distortionT2>-->
      <!--</plugin>-->
    <!--</sensor>-->
  <!--</gazebo>-->
  <!--<joint name="center_top_led_frame_joint" type="fixed">-->
    <!--<origin xyz="0.01125 0.0 0.0105"/>-->
    <!--<parent link="head"/>-->
    <!--<child link="center_top_led_frame"/>-->
  <!--</joint>-->
  <!--<link name="center_top_led_frame">-->
    <!--<inertial>-->
      <!--<mass value="0.1"/>-->
      <!--<origin xyz="0 0 0"/>-->
      <!--<inertia ixx="0.001" ixy="0.0" ixz="0.0" iyy="0.001" iyz="0.0" izz="0.001"/>-->
    <!--</inertial>-->
  <!--</link>-->
  <!--<joint name="center_bottom_led_frame_joint" type="fixed">-->
    <!--<origin xyz="0.01125 0.0 -0.0155"/>-->
    <!--<parent link="head"/>-->
    <!--<child link="center_bottom_led_frame"/>-->
  <!--</joint>-->
  <!--<link name="center_bottom_led_frame">-->
    <!--<inertial>-->
      <!--<mass value="0.1"/>-->
      <!--<origin xyz="0 0 0"/>-->
      <!--<inertia ixx="0.001" ixy="0.0" ixz="0.0" iyy="0.001" iyz="0.0" izz="0.001"/>-->
    <!--</inertial>-->
  <!--</link>-->
  <!--<joint name="left_led_frame_joint" type="fixed">-->
    <!--<origin rpy="0 -0.15 0.53" xyz="-0.01443 0.07452 0.050346"/>-->
    <!--<parent link="head"/>-->
    <!--<child link="left_led_frame"/>-->
  <!--</joint>-->
  <!--<link name="left_led_frame">-->
    <!--<inertial>-->
      <!--<mass value="0.1"/>-->
      <!--<origin xyz="0 0 0"/>-->
      <!--<inertia ixx="0.001" ixy="0.0" ixz="0.0" iyy="0.001" iyz="0.0" izz="0.001"/>-->
    <!--</inertial>-->
  <!--</link>-->
  <!--<joint name="right_led_frame_joint" type="fixed">-->
    <!--<origin rpy="0 -0.15 -0.53" xyz="-0.01443 -0.07452 0.050346"/>-->
    <!--<parent link="head"/>-->
    <!--<child link="right_led_frame"/>-->
  <!--</joint>-->
  <!--<link name="right_led_frame">-->
    <!--<inertial>-->
      <!--<mass value="0.1"/>-->
      <!--<origin xyz="0 0 0"/>-->
      <!--<inertia ixx="0.001" ixy="0.0" ixz="0.0" iyy="0.001" iyz="0.0" izz="0.001"/>-->
    <!--</inertial>-->
  <!--</link>-->
  <gazebo reference="r_foot">
    <!-- contact sensor -->
    <sensor name="r_foot_contact_sensor" type="contact">
      <update_rate>1000.0</update_rate>
      <always_on>1</always_on>
      <contact>
        <topic>/r_foot_contact</topic>
      </contact>
    </sensor>
  </gazebo>
  <gazebo reference="l_foot">
    <!-- contact sensor -->
    <sensor name="l_foot_contact_sensor" type="contact">
      <update_rate>1000.0</update_rate>
      <always_on>1</always_on>
      <contact>
        <topic>/l_foot_contact</topic>
      </contact>
    </sensor>
  </gazebo>
  <!--<transmission name="head_hokuyo_trans" type="pr2_mechanism_model/SimpleTransmission">-->
    <!--<joint name="hokuyo_joint"/>-->
    <!--<actuator name="hokuyo_motor"/>-->
    <!--<mechanicalReduction>1</mechanicalReduction>-->
  <!--</transmission>-->
  <transmission name="back_bkz_trans" type="pr2_mechanism_model/SimpleTransmission">
    <joint name="back_bkz"/>
    <actuator name="back_bkz_motor"/>
    <mechanicalReduction>1</mechanicalReduction>
  </transmission>
  <transmission name="back_bky_trans" type="pr2_mechanism_model/SimpleTransmission">
    <actuator name="back_bky_motor"/>
    <joint name="back_bky"/>
    <mechanicalReduction>1</mechanicalReduction>
  </transmission>
  <transmission name="back_bkx_trans" type="pr2_mechanism_model/SimpleTransmission">
    <actuator name="back_bkx_motor"/>
    <joint name="back_bkx"/>
    <mechanicalReduction>1</mechanicalReduction>
  </transmission>
  <!--<transmission name="l_arm_elx_trans" type="pr2_mechanism_model/SimpleTransmission">-->
    <!--<actuator name="l_arm_elx_motor"/>-->
    <!--<joint name="l_arm_elx"/>-->
    <!--<mechanicalReduction>1</mechanicalReduction>-->
  <!--</transmission>-->
  <!--<transmission name="l_arm_ely_trans" type="pr2_mechanism_model/SimpleTransmission">-->
    <!--<actuator name="l_arm_ely_motor"/>-->
    <!--<joint name="l_arm_ely"/>-->
    <!--<mechanicalReduction>1</mechanicalReduction>-->
  <!--</transmission>-->
  <!--<transmission name="l_arm_mwx_trans" type="pr2_mechanism_model/SimpleTransmission">-->
    <!--<actuator name="l_arm_mwx_motor"/>-->
    <!--<joint name="l_arm_mwx"/>-->
    <!--<mechanicalReduction>1</mechanicalReduction>-->
  <!--</transmission>-->
  <!--<transmission name="l_arm_shx_trans" type="pr2_mechanism_model/SimpleTransmission">-->
    <!--<actuator name="l_arm_shx_motor"/>-->
    <!--<joint name="l_arm_shx"/>-->
    <!--<mechanicalReduction>1</mechanicalReduction>-->
  <!--</transmission>-->
  <!--<transmission name="l_arm_shz_trans" type="pr2_mechanism_model/SimpleTransmission">-->
    <!--<actuator name="l_arm_shz_motor"/>-->
    <!--<joint name="l_arm_shz"/>-->
    <!--<mechanicalReduction>1</mechanicalReduction>-->
  <!--</transmission>-->
  <!--<transmission name="l_arm_uwy_trans" type="pr2_mechanism_model/SimpleTransmission">-->
    <!--<actuator name="l_arm_uwy_motor"/>-->
    <!--<joint name="l_arm_uwy"/>-->
    <!--<mechanicalReduction>1</mechanicalReduction>-->
  <!--</transmission>-->
  <!--<transmission name="l_arm_lwy_trans" type="pr2_mechanism_model/SimpleTransmission">-->
    <!--<actuator name="l_arm_lwy_motor"/>-->
    <!--<joint name="l_arm_lwy"/>-->
    <!--<mechanicalReduction>1</mechanicalReduction>-->
  <!--</transmission>-->
  <transmission name="l_leg_kny_trans" type="pr2_mechanism_model/SimpleTransmission">
    <actuator name="l_leg_kny_motor"/>
    <joint name="l_leg_kny"/>
    <mechanicalReduction>1</mechanicalReduction>
  </transmission>
  <transmission name="l_leg_akx_trans" type="pr2_mechanism_model/SimpleTransmission">
    <actuator name="l_leg_akx_motor"/>
    <joint name="l_leg_akx"/>
    <mechanicalReduction>1</mechanicalReduction>
  </transmission>
  <transmission name="l_leg_hpy_trans" type="pr2_mechanism_model/SimpleTransmission">
    <actuator name="l_leg_hpy_motor"/>
    <joint name="l_leg_hpy"/>
    <mechanicalReduction>1</mechanicalReduction>
  </transmission>
  <transmission name="l_leg_hpx_trans" type="pr2_mechanism_model/SimpleTransmission">
    <actuator name="l_leg_hpx_motor"/>
    <joint name="l_leg_hpx"/>
    <mechanicalReduction>1</mechanicalReduction>
  </transmission>
  <transmission name="l_leg_aky_trans" type="pr2_mechanism_model/SimpleTransmission">
    <actuator name="l_leg_aky_motor"/>
    <joint name="l_leg_aky"/>
    <mechanicalReduction>1</mechanicalReduction>
  </transmission>
  <transmission name="l_leg_hpz_trans" type="pr2_mechanism_model/SimpleTransmission">
    <actuator name="l_leg_hpz_motor"/>
    <joint name="l_leg_hpz"/>
    <mechanicalReduction>1</mechanicalReduction>
  </transmission>
  <!--<transmission name="neck_ay_trans" type="pr2_mechanism_model/SimpleTransmission">-->
    <!--<actuator name="neck_ay_motor"/>-->
    <!--<joint name="neck_ay"/>-->
    <!--<mechanicalReduction>1</mechanicalReduction>-->
  <!--</transmission>-->
  <!--<transmission name="r_arm_elx_trans" type="pr2_mechanism_model/SimpleTransmission">-->
    <!--<actuator name="r_arm_elx_motor"/>-->
    <!--<joint name="r_arm_elx"/>-->
    <!--<mechanicalReduction>1</mechanicalReduction>-->
  <!--</transmission>-->
  <!--<transmission name="r_arm_ely_trans" type="pr2_mechanism_model/SimpleTransmission">-->
    <!--<actuator name="r_arm_ely_motor"/>-->
    <!--<joint name="r_arm_ely"/>-->
    <!--<mechanicalReduction>1</mechanicalReduction>-->
  <!--</transmission>-->
  <!--<transmission name="r_arm_mwx_trans" type="pr2_mechanism_model/SimpleTransmission">-->
    <!--<actuator name="r_arm_mwx_motor"/>-->
    <!--<joint name="r_arm_mwx"/>-->
    <!--<mechanicalReduction>1</mechanicalReduction>-->
  <!--</transmission>-->
  <!--<transmission name="r_arm_shx_trans" type="pr2_mechanism_model/SimpleTransmission">-->
    <!--<actuator name="r_arm_shx_motor"/>-->
    <!--<joint name="r_arm_shx"/>-->
    <!--<mechanicalReduction>1</mechanicalReduction>-->
  <!--</transmission>-->
  <!--<transmission name="r_arm_shz_trans" type="pr2_mechanism_model/SimpleTransmission">-->
    <!--<actuator name="r_arm_shz_motor"/>-->
    <!--<joint name="r_arm_shz"/>-->
    <!--<mechanicalReduction>1</mechanicalReduction>-->
  <!--</transmission>-->
  <!--<transmission name="r_arm_uwy_trans" type="pr2_mechanism_model/SimpleTransmission">-->
    <!--<actuator name="r_arm_uwy_motor"/>-->
    <!--<joint name="r_arm_uwy"/>-->
    <!--<mechanicalReduction>1</mechanicalReduction>-->
  <!--</transmission>-->
  <!--<transmission name="r_arm_lwy_trans" type="pr2_mechanism_model/SimpleTransmission">-->
    <!--<actuator name="r_arm_lwy_motor"/>-->
    <!--<joint name="r_arm_lwy"/>-->
    <!--<mechanicalReduction>1</mechanicalReduction>-->
  <!--</transmission>-->
  <transmission name="r_leg_kny_trans" type="pr2_mechanism_model/SimpleTransmission">
    <actuator name="r_leg_kny_motor"/>
    <joint name="r_leg_kny"/>
    <mechanicalReduction>1</mechanicalReduction>
  </transmission>
  <transmission name="r_leg_akx_trans" type="pr2_mechanism_model/SimpleTransmission">
    <actuator name="r_leg_akx_motor"/>
    <joint name="r_leg_akx"/>
    <mechanicalReduction>1</mechanicalReduction>
  </transmission>
  <transmission name="r_leg_hpy_trans" type="pr2_mechanism_model/SimpleTransmission">
    <actuator name="r_leg_hpy_motor"/>
    <joint name="r_leg_hpy"/>
    <mechanicalReduction>1</mechanicalReduction>
  </transmission>
  <transmission name="r_leg_hpx_trans" type="pr2_mechanism_model/SimpleTransmission">
    <actuator name="r_leg_hpx_motor"/>
    <joint name="r_leg_hpx"/>
    <mechanicalReduction>1</mechanicalReduction>
  </transmission>
  <transmission name="r_leg_aky_trans" type="pr2_mechanism_model/SimpleTransmission">
    <actuator name="r_leg_aky_motor"/>
    <joint name="r_leg_aky"/>
    <mechanicalReduction>1</mechanicalReduction>
  </transmission>
  <transmission name="r_leg_hpz_trans" type="pr2_mechanism_model/SimpleTransmission">
    <actuator name="r_leg_hpz_motor"/>
    <joint name="r_leg_hpz"/>
    <mechanicalReduction>1</mechanicalReduction>
  </transmission>
  <!--<link name="l_hand_force_torque">-->
    <!--<inertial>-->
      <!--<mass value="0.1"/>-->
      <!--<origin xyz="0 0 0"/>-->
      <!--<inertia ixx="0.00001" ixy="0" ixz="0" iyy="0.00001" iyz="0" izz="0.00001"/>-->
    <!--</inertial>-->
    <!--<visual>-->
      <!--<origin rpy="0 0 0" xyz="0 0 0"/>-->
      <!--<geometry>-->
        <!--<box size="0.01 0.01 0.01"/>-->
      <!--</geometry>-->
    <!--</visual>-->
  <!--</link>-->
  <!--<joint name="l_hand_force_torque_joint" type="fixed">-->
    <!--<origin rpy="0 0 3.141592" xyz="0 -0.1245 0"/>-->
    <!--<parent link="l_hand"/>-->
    <!--<child link="l_hand_force_torque"/>-->
  <!--</joint>-->
  <!--<link name="r_hand_force_torque">-->
    <!--<inertial>-->
      <!--<mass value="0.1"/>-->
      <!--<origin xyz="0 0 0"/>-->
      <!--<inertia ixx="0.00001" ixy="0" ixz="0" iyy="0.00001" iyz="0" izz="0.00001"/>-->
    <!--</inertial>-->
    <!--<visual>-->
      <!--<origin rpy="0 0 0" xyz="0 0 0"/>-->
      <!--<geometry>-->
        <!--<box size="0.01 0.01 0.01"/>-->
      <!--</geometry>-->
    <!--</visual>-->
  <!--</link>-->
  <!--<joint name="r_hand_force_torque_joint" type="fixed">-->
    <!--<origin rpy="0 0 3.141592" xyz="0 -0.1245 0"/>-->
    <!--<parent link="r_hand"/>-->
    <!--<child link="r_hand_force_torque"/>-->
  <!--</joint>-->
</robot>
